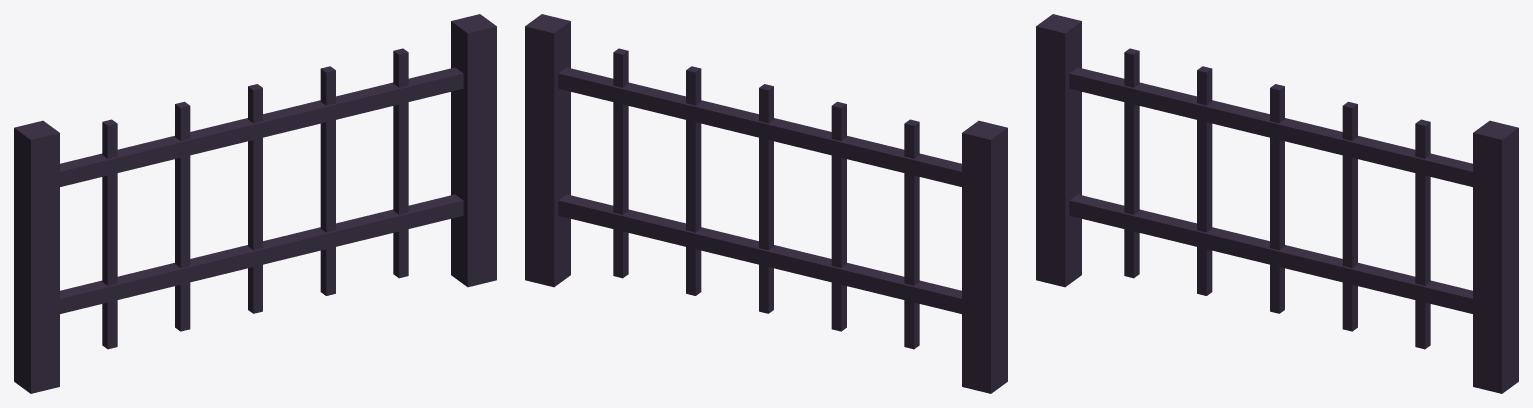
The model's file is fence-segment.glb.
3 views of the same model, side by side, from view 1: azimuth 30°, elevation 25°; view 2: azimuth 150°, elevation 25°; view 3: azimuth 330°, elevation 25° (orthographic).
Visible parts, largest first — view 1: graveyard-fence-segment; view 2: graveyard-fence-segment; view 3: graveyard-fence-segment.
Part boxes in pixels (box(x1,y1,x2,y2)): graveyard-fence-segment: box(14, 14, 496, 393); graveyard-fence-segment: box(525, 14, 1007, 393); graveyard-fence-segment: box(1036, 14, 1518, 393).
Bounding box in the file's own units: 0.96 × 0.5 × 0.06.
